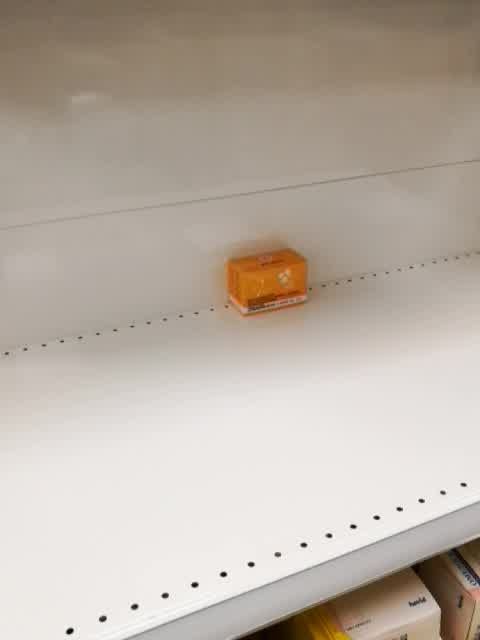jasminetea: (225, 247, 310, 319)
